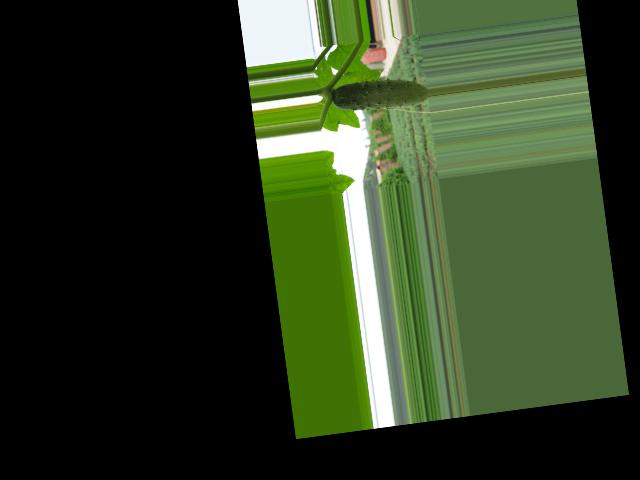cucumber: (331, 73, 430, 116)
